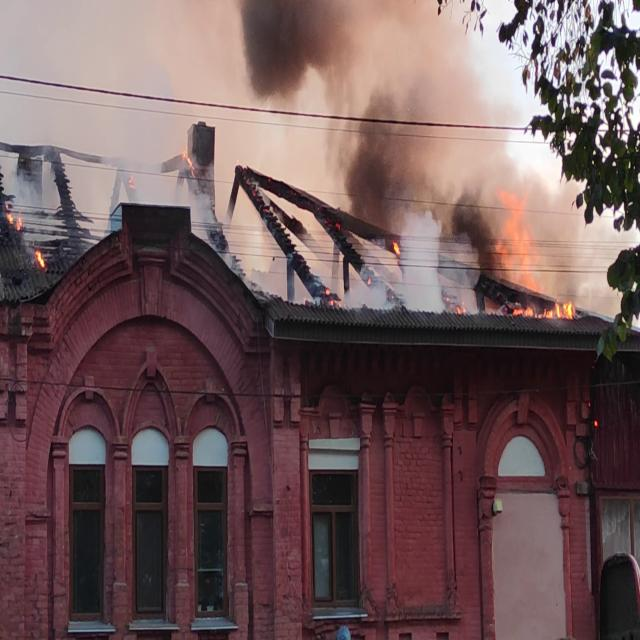fire: (495, 187, 589, 321)
smoke: (239, 0, 427, 222)
